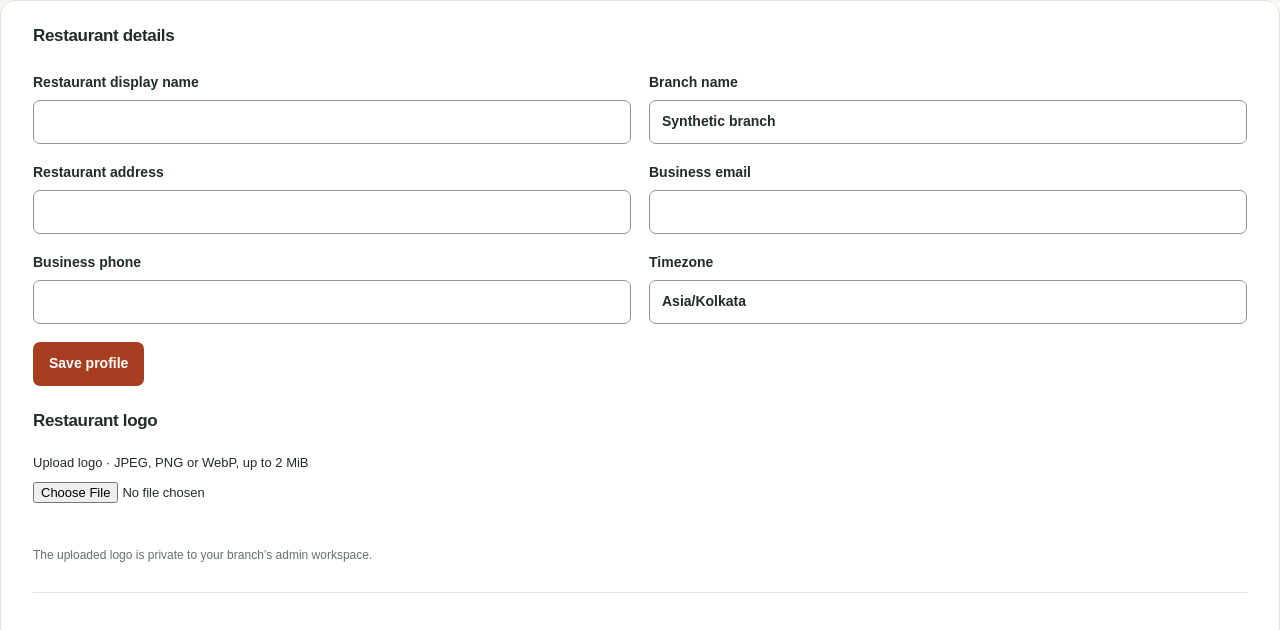
rejected save remains an error and retains input without displaying success
Type "Unsaved value" into the field labelled "Restaurant display name" at x=332, y=122, box [33,100,631,144]
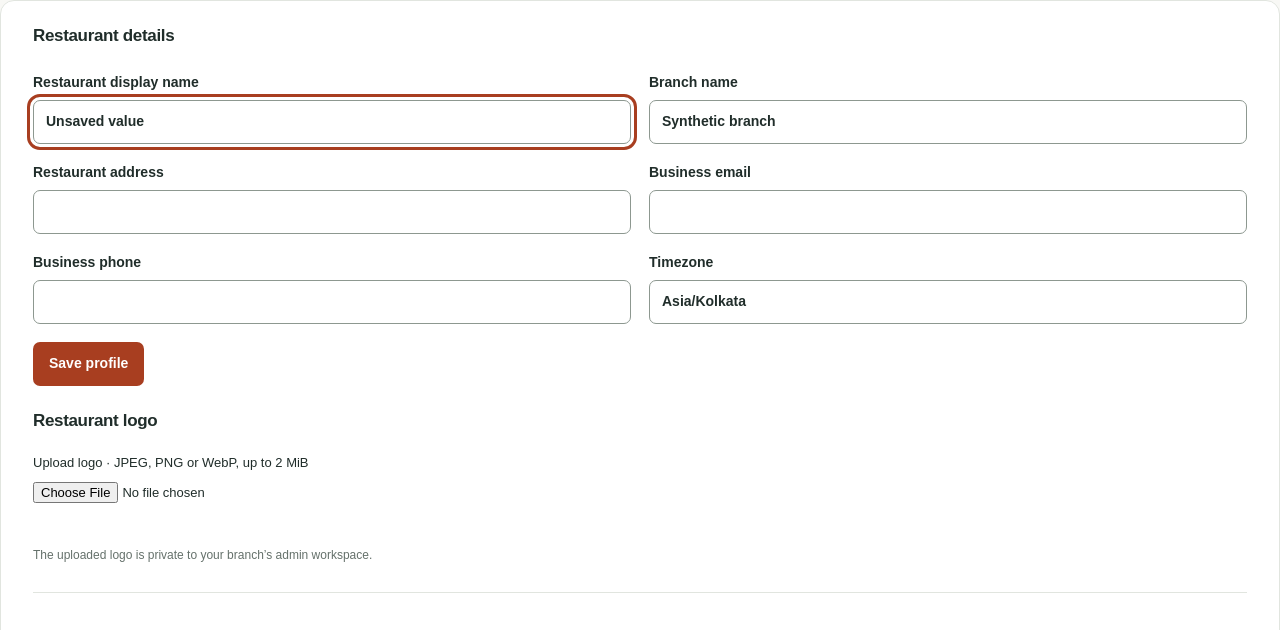
Click the button "Save profile" at x=89, y=364, box [33,342,144,386]
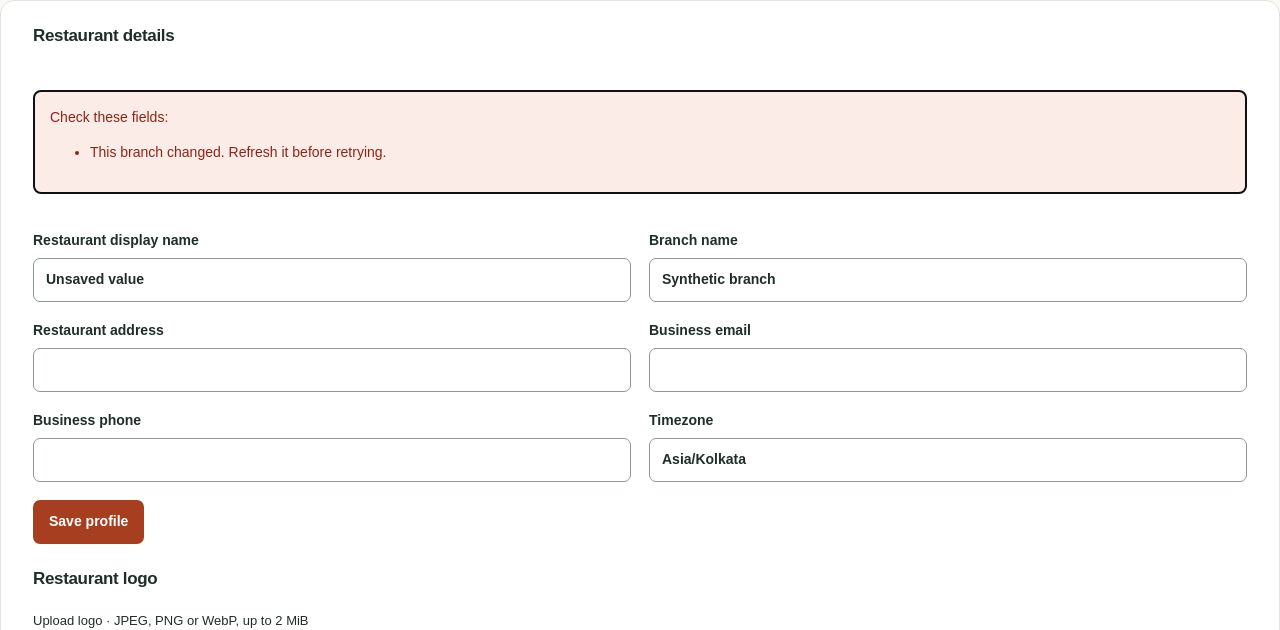
Now the message shows "branch changed", box [90,144,386,160]
